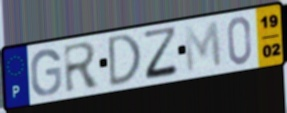0: (225, 15, 253, 68)
D: (107, 32, 144, 90)
G: (29, 47, 64, 98)
M: (182, 19, 224, 75)
R: (62, 40, 102, 96)
Z: (142, 24, 181, 82)
